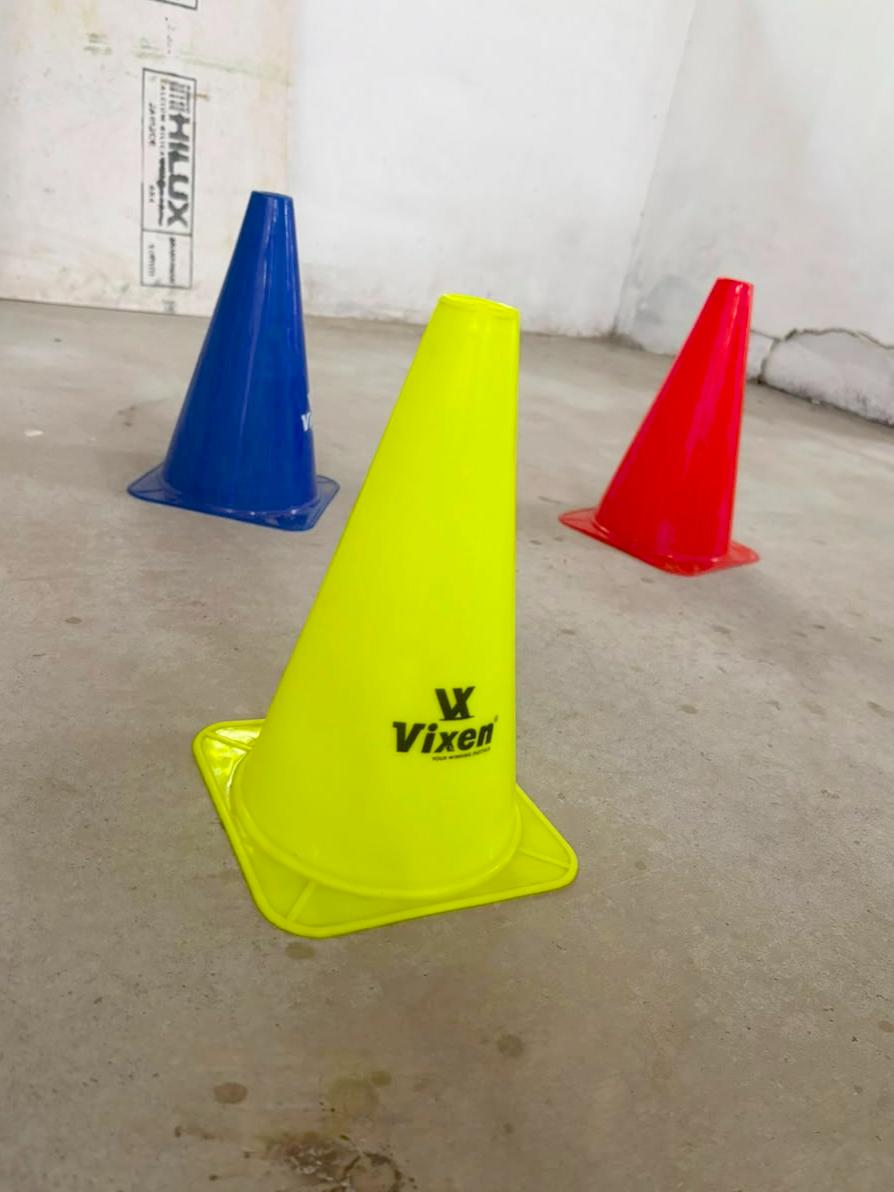0 cone: (194, 295, 575, 936), (128, 192, 337, 530), (560, 279, 757, 574)
